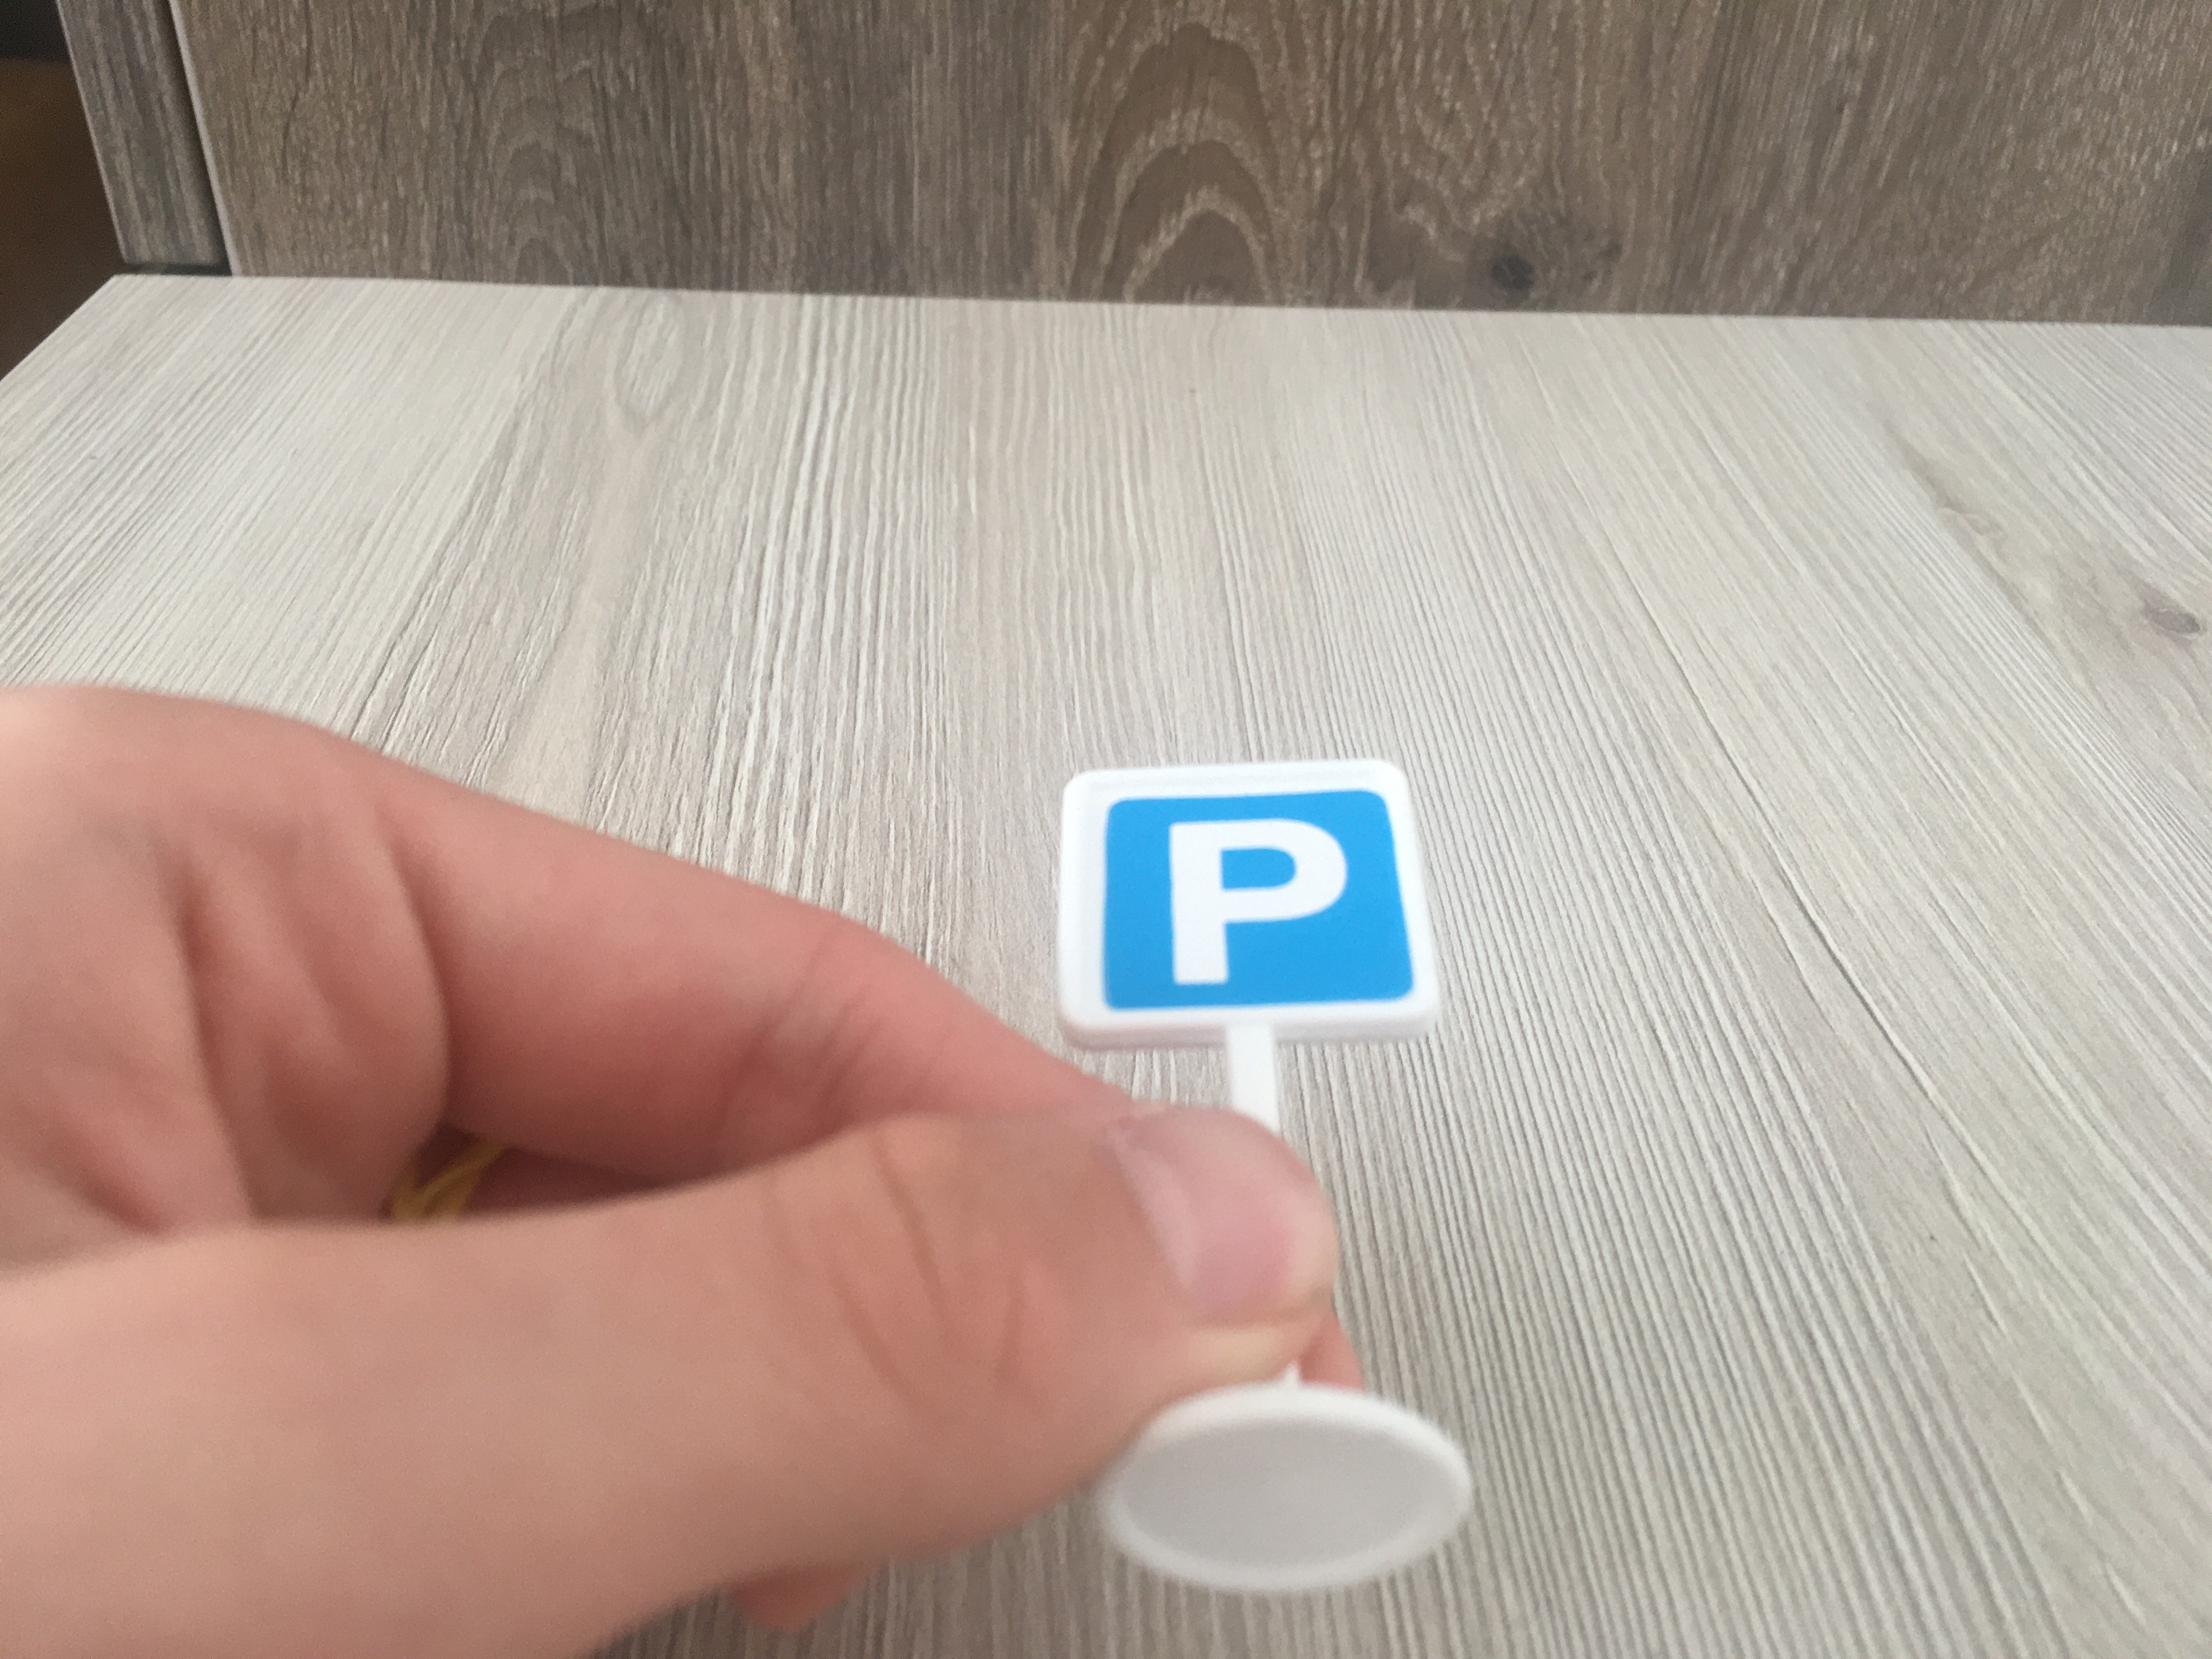parking: (1057, 767, 1444, 1040)
